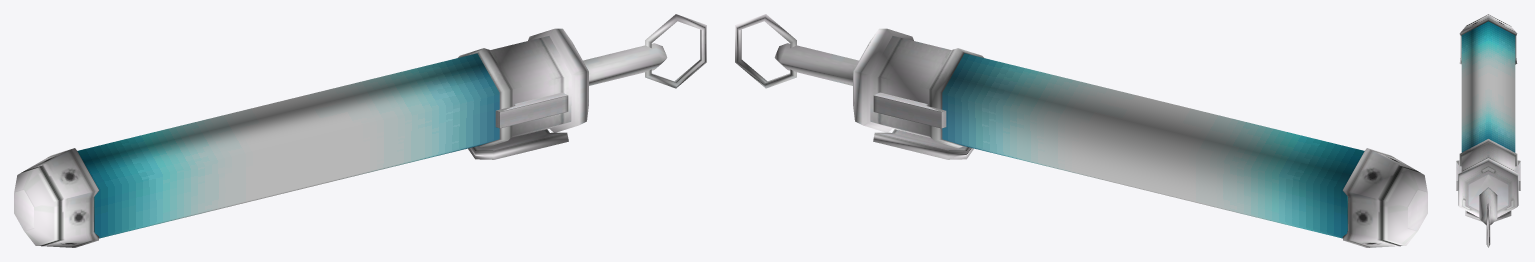
The model's file is eqp_tool_glow_rod_l0.fbx.
3 renders of one model, left to right at view 1: azimuth 30°, elevation 25°; view 2: azimuth 150°, elevation 25°; view 3: azimuth 270°, elevation 25°, orthographic. The views are drawn at different scales.
Visible parts, largest first — view 1: mesh_node; view 2: mesh_node; view 3: mesh_node.
Part boxes in pixels (left/top/right/bottom): mesh_node: left=14, top=14, right=706, bottom=247; mesh_node: left=735, top=14, right=1427, bottom=247; mesh_node: left=1456, top=14, right=1520, bottom=247.
Bounding box in the file's own units: 0.4003 × 0.0623 × 0.0542.
